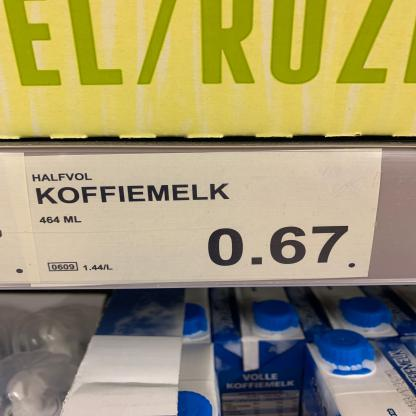prtg: (25, 148, 385, 289), (1, 153, 44, 286)
